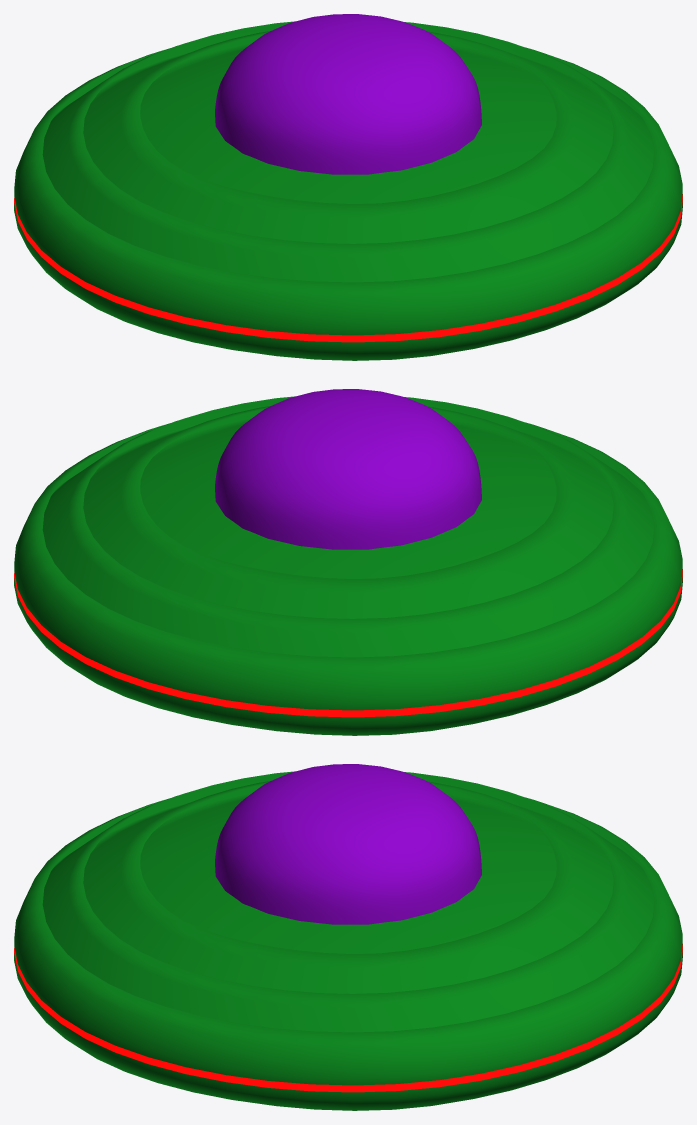
The model's file is multi takedown alien ship.dae.
3 renders of one model, top to bottom at view 1: azimuth 30°, elevation 25°; view 2: azimuth 150°, elevation 25°; view 3: azimuth 270°, elevation 25°, orthographic.
Visible parts, largest first — view 1: Body, Dome, laser_bank; view 2: Body, Dome, laser_bank; view 3: Body, Dome, laser_bank.
Boxes of the visible parts, x1,y1,x2,y2 form: Body: [14, 21, 682, 360]; Dome: [215, 14, 481, 174]; laser_bank: [14, 194, 682, 342]; Body: [14, 396, 682, 735]; Dome: [215, 389, 481, 549]; laser_bank: [14, 569, 682, 717]; Body: [14, 771, 682, 1110]; Dome: [215, 764, 481, 924]; laser_bank: [14, 944, 682, 1092].
Size of the model in its own units: 2.87 by 1.06 by 2.86.
